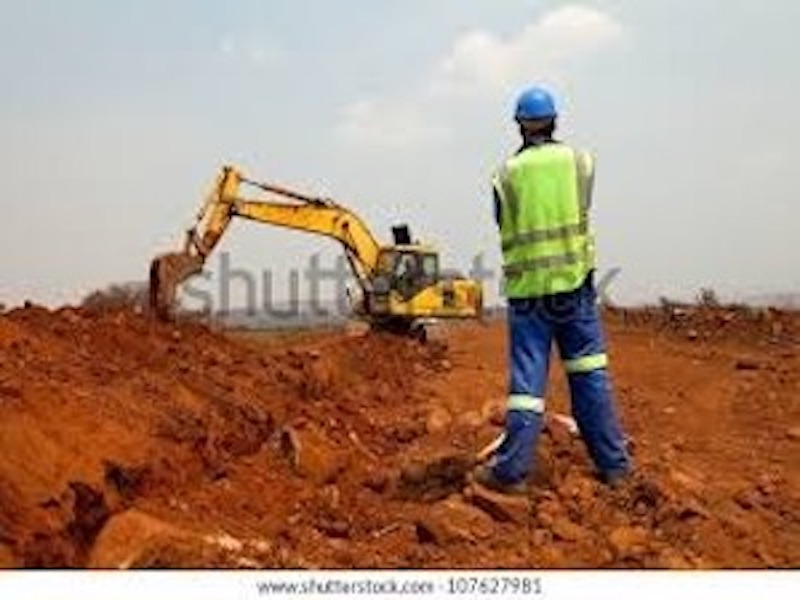safety: (508, 87, 565, 127)
vest: (497, 142, 600, 309)
